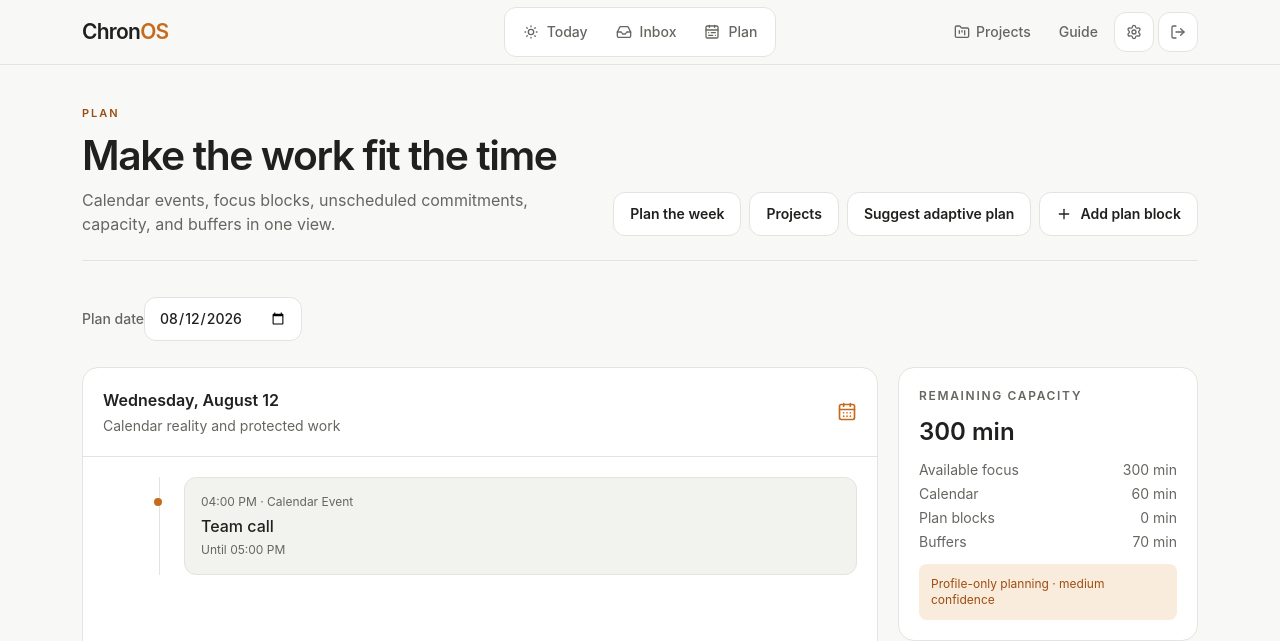
Test: shows a clear overlap error for a conflicting plan block
Click the button "Add plan block": (1119, 214) x1=1039 y1=192 x2=1198 y2=236
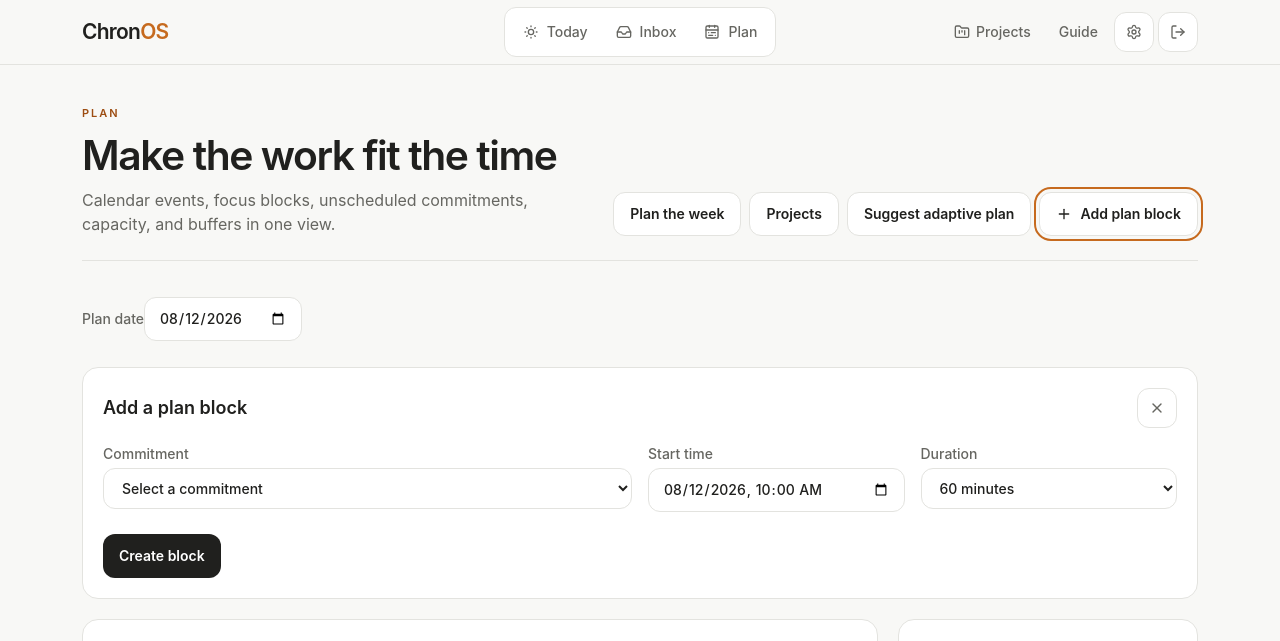
Select "Authentication regression fix" in the dropdown labelled "Commitment": (368, 489) x1=103 y1=468 x2=632 y2=510
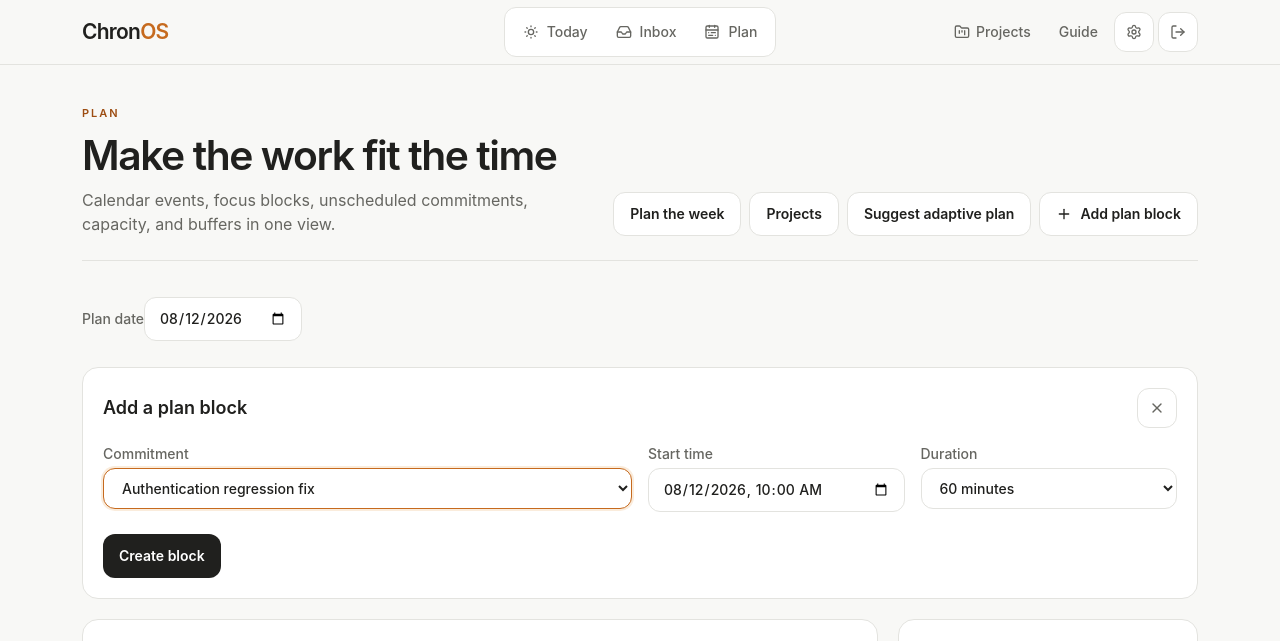
Click the button "Create block": (162, 556) x1=103 y1=534 x2=221 y2=578
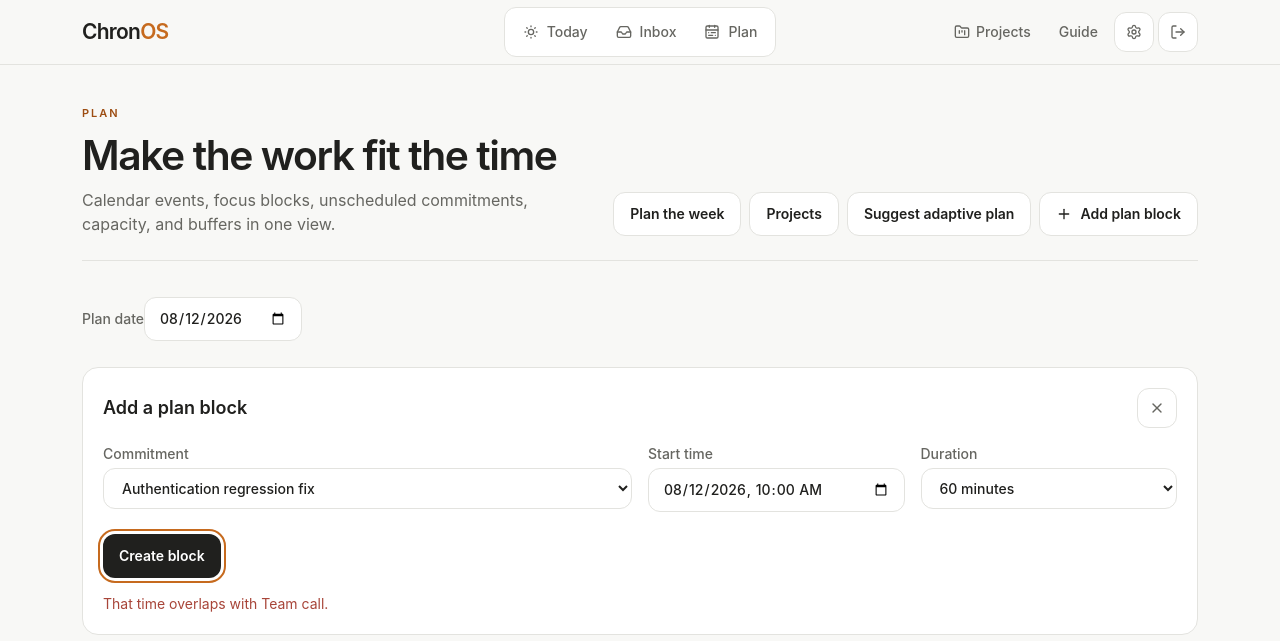
Result: the message shows "overlaps with Team call" at x1=103 y1=596 x2=328 y2=612
